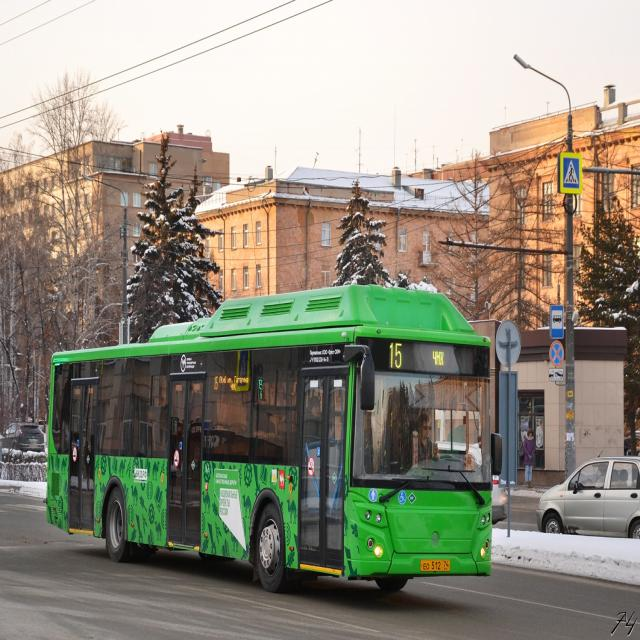number-of-bus: (390, 343, 404, 372), (215, 376, 220, 393)
